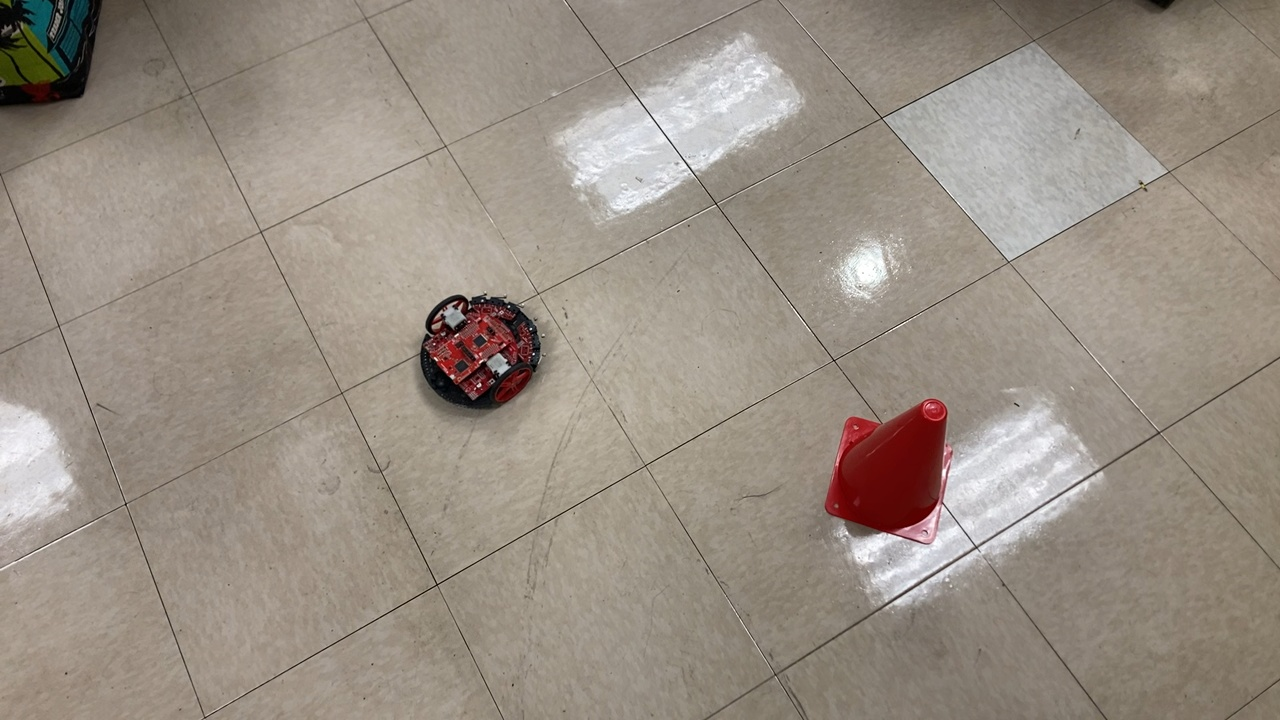red_cone: (818, 398, 963, 549)
robot: (419, 290, 546, 416)
